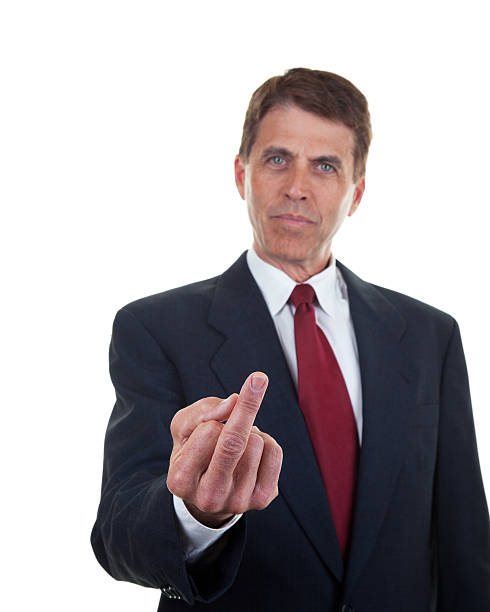insulting_gesture: (166, 373, 285, 516)
